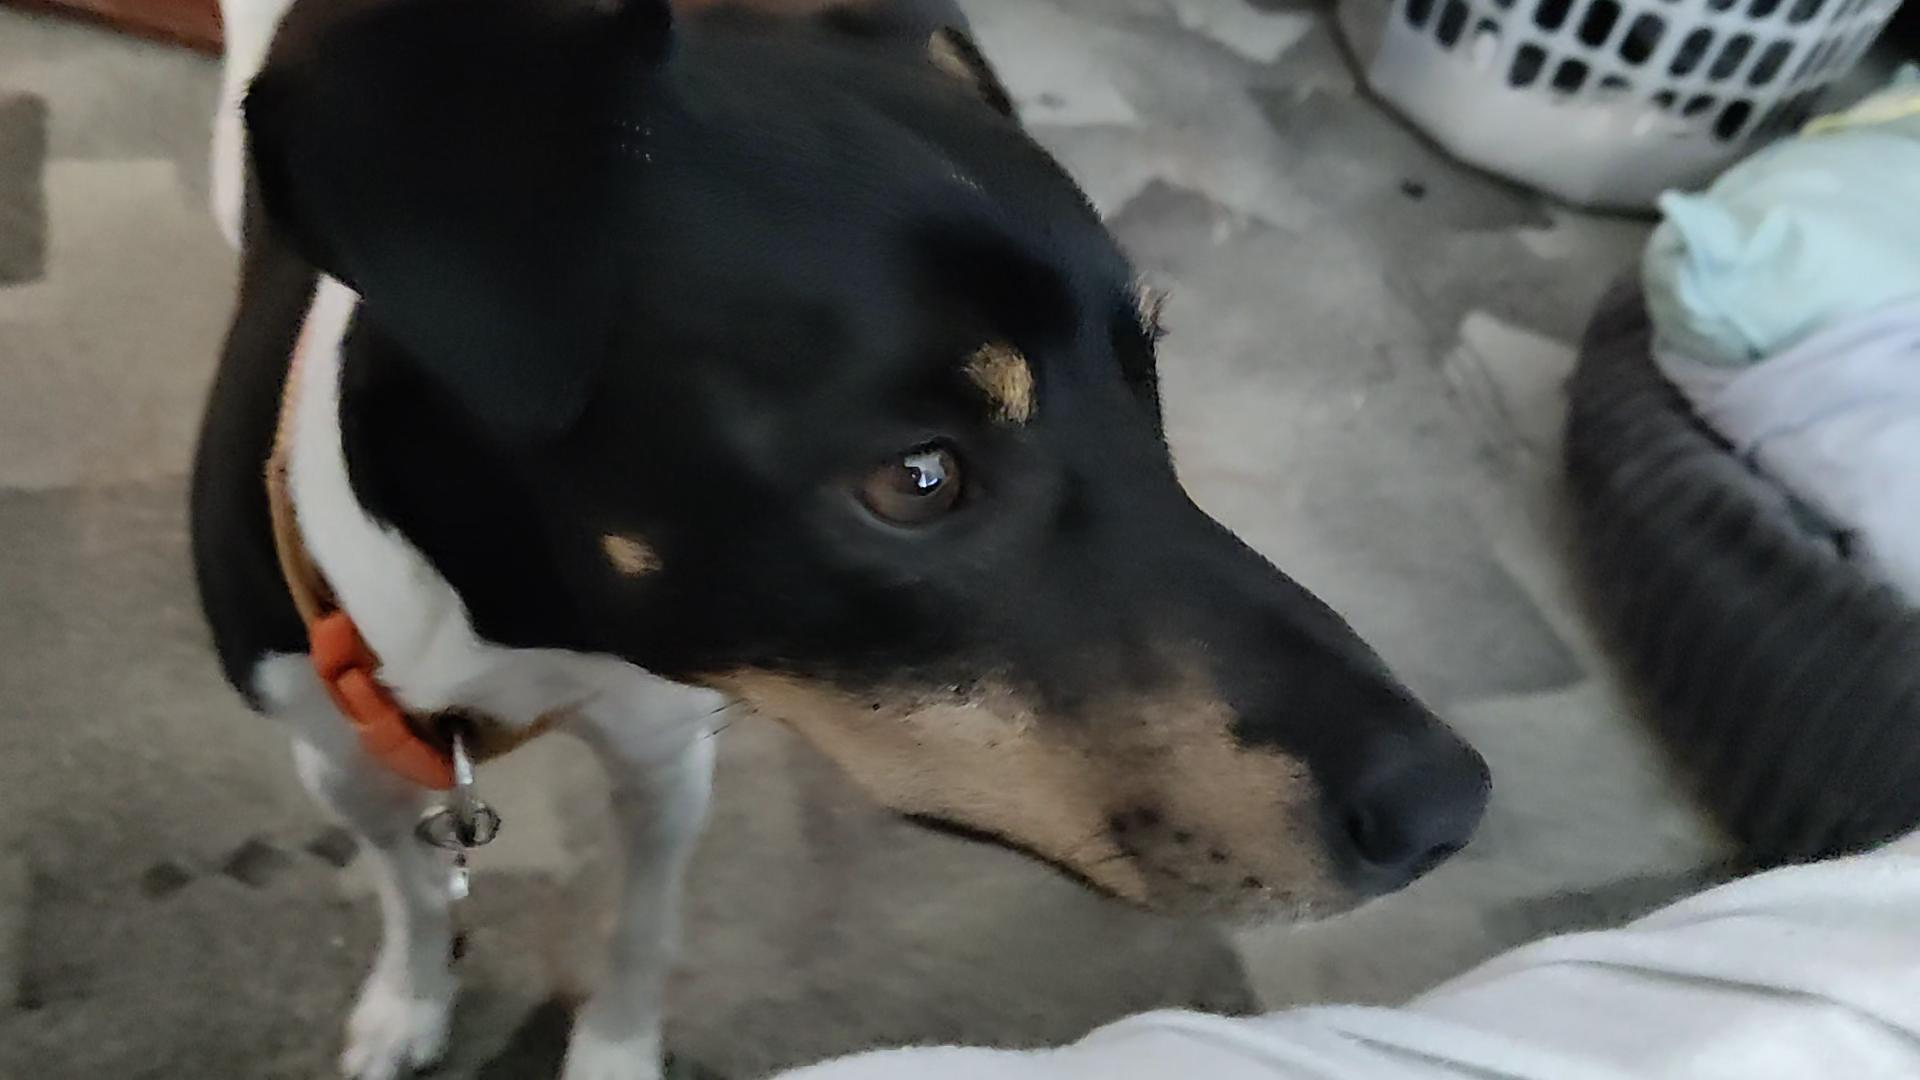Dog: (169, 0, 1503, 1079)
